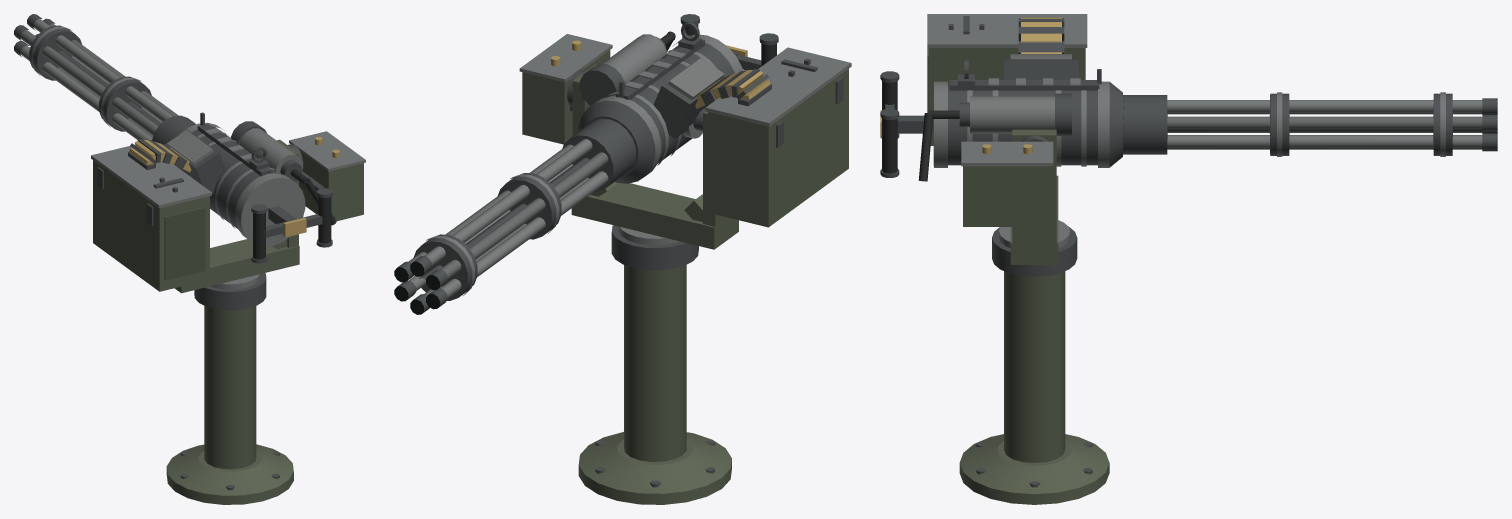
File: rotary_gun.glb
The picture shows the model from 3 angles, left to right: view 1: azimuth 30°, elevation 25°; view 2: azimuth 150°, elevation 25°; view 3: azimuth 270°, elevation 25°; orthographic projection. The views are drawn at different scales.
Parts seen in each view (by area): view 1: Mount, BarrelPivot, AmmoCan, Rotor; view 2: Mount, BarrelPivot, AmmoCan, Rotor; view 3: BarrelPivot, Mount, Rotor, AmmoCan.
Part boxes in pixels (bbox=[...]): Mount: bbox=[166, 139, 303, 504]; BarrelPivot: bbox=[128, 112, 365, 263]; AmmoCan: bbox=[91, 144, 211, 291]; Rotor: bbox=[14, 14, 195, 144]; Mount: bbox=[567, 64, 738, 504]; BarrelPivot: bbox=[519, 14, 778, 183]; AmmoCan: bbox=[705, 47, 851, 227]; Rotor: bbox=[394, 119, 635, 314]; BarrelPivot: bbox=[880, 17, 1123, 226]; Mount: bbox=[959, 129, 1109, 504]; Rotor: bbox=[1123, 92, 1497, 156]; AmmoCan: bbox=[927, 14, 1087, 145].
Bounding box in the file's own units: 0.881 × 1.34 × 1.81.
